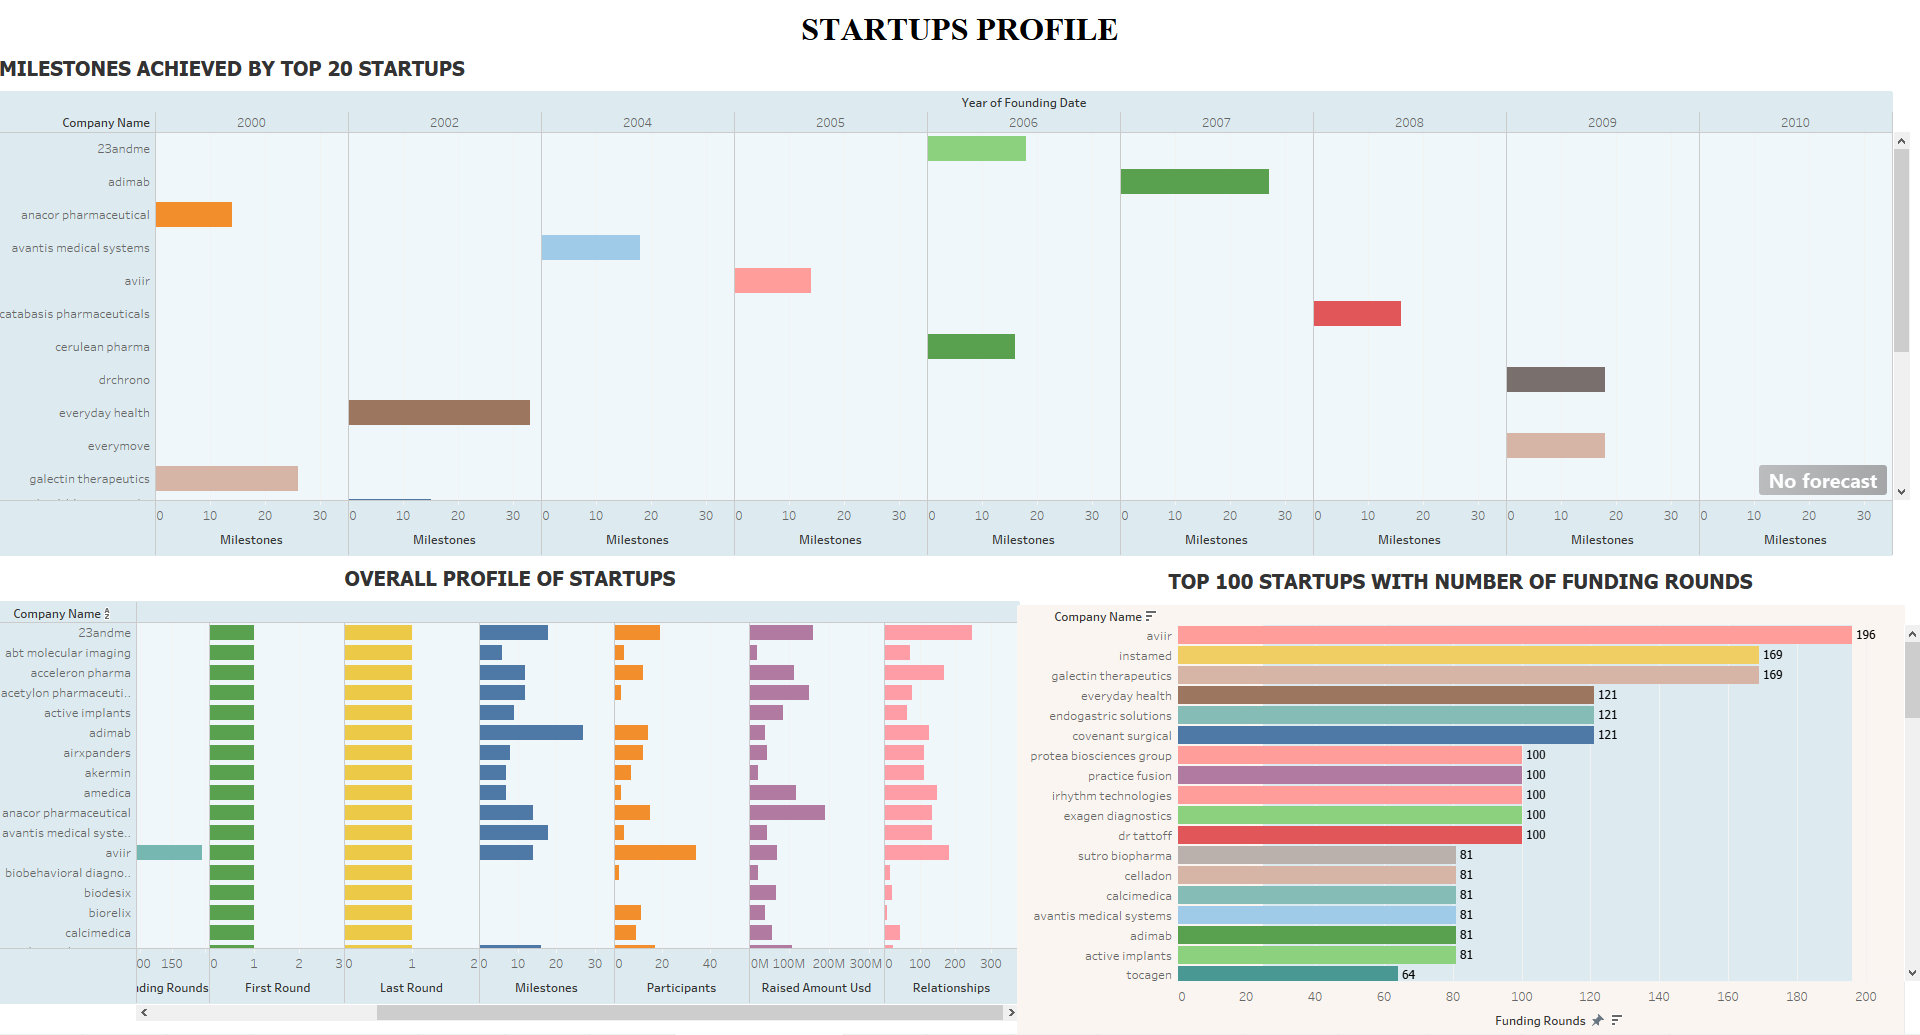

What the dashboard file says about the page in this screenshot:
{"tool":"tableau","page":{"name":"DASHBOARD 2","canvas":[1000,1000],"units":"permille","ordinal":1},"visuals":[{"type":"worksheet","box":[0,0,1000,1000]},{"type":"worksheet","param":"vert","box":[4.8,9.3,990.5,981.4]},{"type":"worksheet","box":[4.8,9.3,990.5,51.2]},{"type":"worksheet","param":"vert","box":[4.8,60.5,990.5,930.2]},{"type":"worksheet","box":[4.8,60.5,990.5,930.2]},{"type":"worksheet","title":"Sheet 6","mark":"Automatic","rows":["Company_Name"],"cols":["Extract (Extract.Extract)_F51375502C534745A82F0CF8C95C5F20","Total_funding","funding_rounds","is_first_round","is_last_round","milestones","participants","raised_amount_usd","relationships"],"box":[0,544.2,539.9,457]},{"type":"worksheet","title":"Sheet 4","mark":"Automatic","rows":["Company_Name"],"cols":["funding_rounds"],"box":[529.8,546.5,470.8,454.7]}]}

Visuals, with their boxes on the dashboard's canvas, which has no fixed pixel size, in thousandths of its width and height (x1, y1, x2, y2). These are canvas units, not pixel positions in the 1920x1035 screenshot, which may show the page scaled, cropped or inside an application window:
worksheet: bbox=[0, 0, 1000, 1000]
worksheet: bbox=[5, 9, 995, 991]
worksheet: bbox=[5, 9, 995, 60]
worksheet: bbox=[5, 60, 995, 991]
worksheet: bbox=[5, 60, 995, 991]
"Sheet 6" worksheet: bbox=[0, 544, 540, 1001]
"Sheet 4" worksheet: bbox=[530, 546, 1001, 1001]
